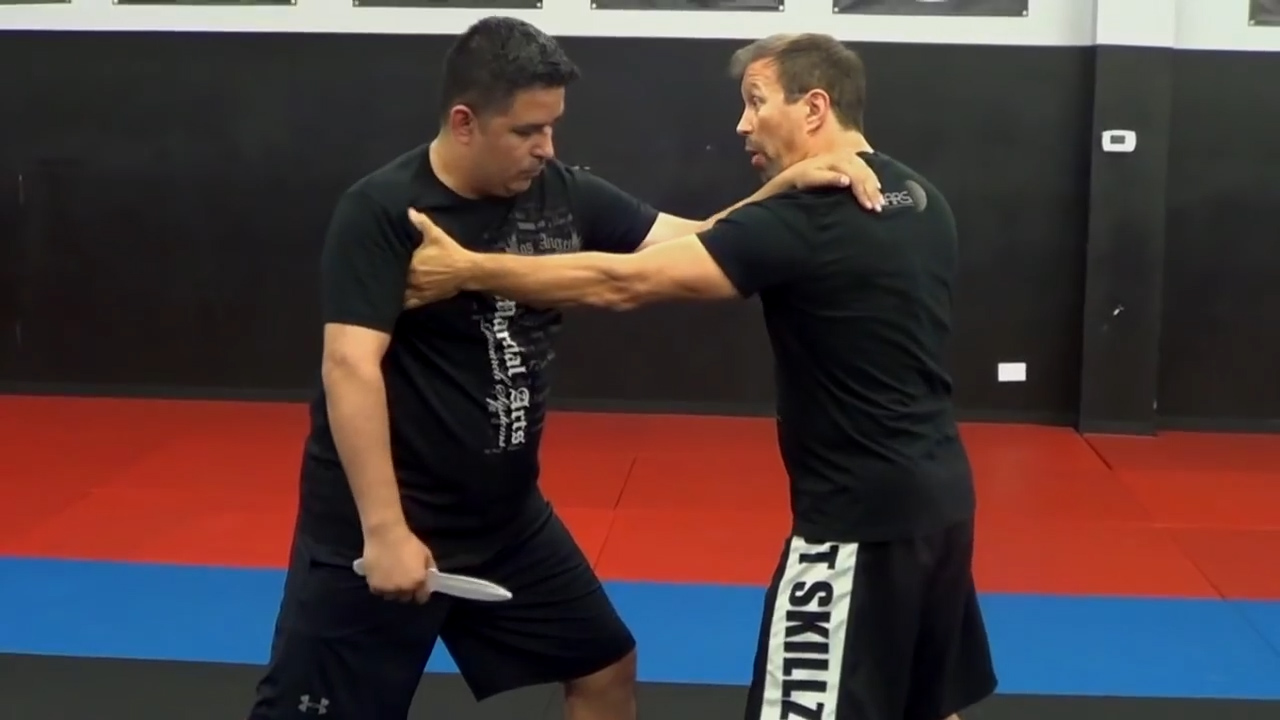knife: (346, 552, 518, 605)
